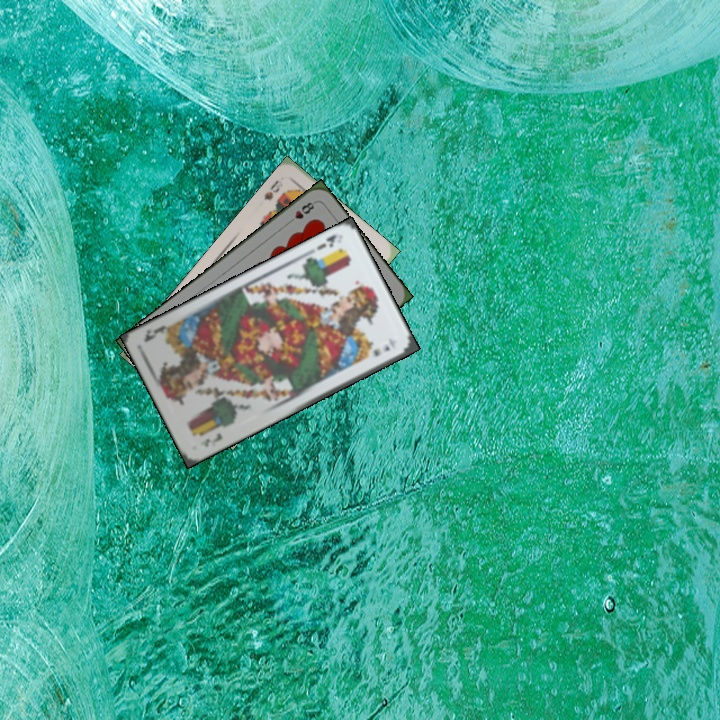EK: (313, 229, 342, 253), (197, 429, 225, 450)
H8: (283, 198, 318, 227)
S8: (260, 176, 286, 203)
